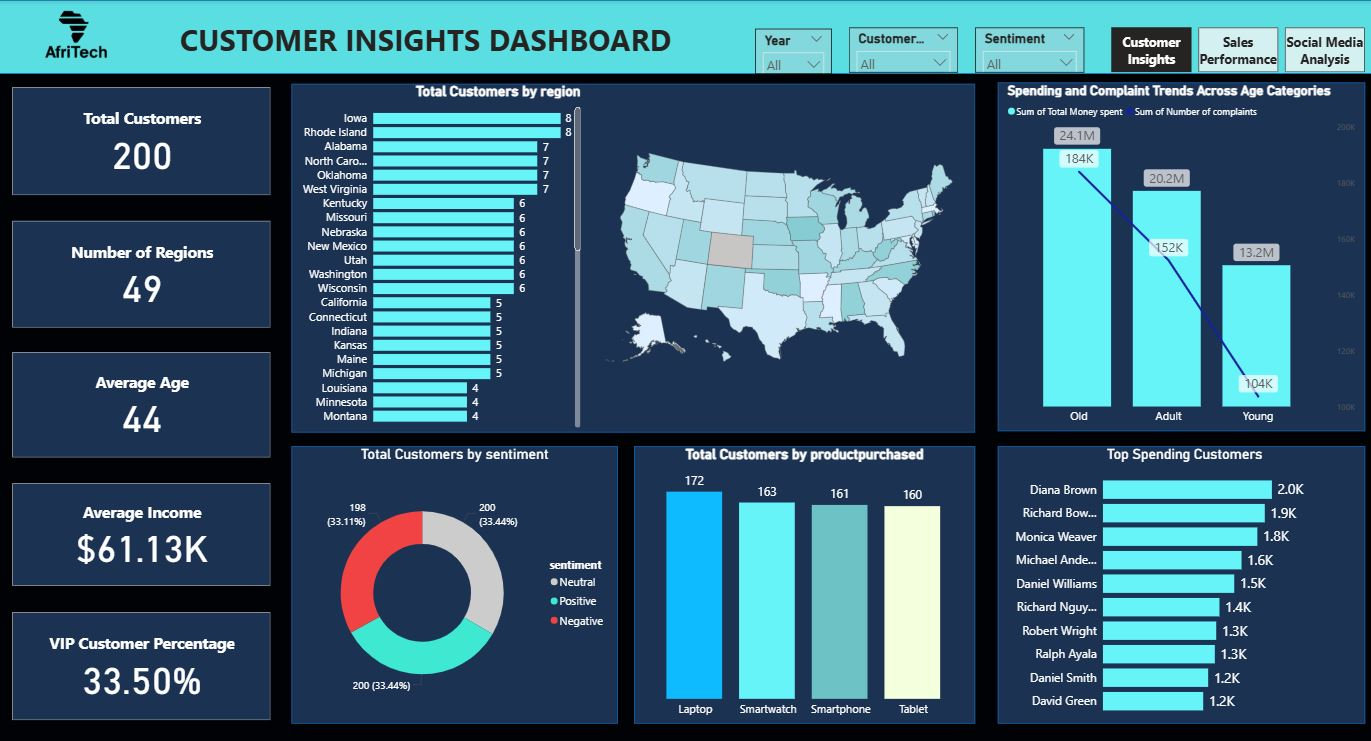

This screenshot's page, from the dashboard's own definition file:
{"tool":"powerbi","page":{"name":"Customer Insights","canvas":[2000,1080],"ordinal":0},"visuals":[{"type":"shape","box":[0,0,2000.4,107.2],"z":0},{"type":"shape","box":[923,648.6,496,403.3],"z":1000},{"type":"shape","box":[425.1,648.6,474.2,403.3],"z":2000},{"type":"shape","box":[1451.7,648.6,534.2,403.3],"z":3000},{"type":"shape","box":[1451.7,119.9,534.2,506.9],"z":4000},{"type":"shape","box":[425.1,121.7,993.8,506.9],"z":5000},{"type":"image","box":[0,0,221.7,105.4],"z":6000},{"type":"clusteredBarChart","fields":{"Y":["New Measures.Total Customers"],"Category":["public customerdata.region"]},"box":[425.1,119.9,425.1,506.9],"z":7000},{"type":"donutChart","fields":{"Y":["New Measures.Total Customers"],"Category":["public socialmedia.sentiment"]},"box":[425.1,648.6,474.2,403.3],"z":8000},{"type":"shapeMap","fields":{"Value":["New Measures.Total Customers"],"Category":["public customerdata.region"]},"box":[850.3,121.7,568.7,505.1],"z":9000},{"type":"clusteredColumnChart","fields":{"Category":["public transactiondata.productpurchased"],"Y":["New Measures.Total Customers"]},"box":[923,648.6,496,403.3],"z":10000},{"type":"lineClusteredColumnComboChart","title":"Spending and Complaint Trends Across Age Categories","fields":{"Category":["Query1.age_category"],"Y":["Sum(Query1.Total Money spent)"],"Y2":["Sum(Query1.Number of complaints)"]},"box":[1460.8,119.9,525.1,506.9],"z":11000},{"type":"clusteredBarChart","title":"Top Spending Customers","fields":{"Category":["public customerdata.customername"],"Y":["Avg(public transactiondata.purchaseamount)"]},"box":[1460.8,648.6,525.1,403.3],"z":12000},{"type":"cardVisual","fields":{"Data":["New Measures.Total Customers"]},"box":[14.5,121.7,385.2,167.2],"z":13000},{"type":"cardVisual","fields":{"Data":["New Measures.Region Count"]},"box":[14.5,315.7,385.2,165.3],"z":14000},{"type":"cardVisual","fields":{"Data":["New Measures.Average Income"]},"box":[14.5,698.1,385.2,159.9],"z":15000},{"type":"cardVisual","fields":{"Data":["New Measures.Average Age"]},"box":[14.5,507.8,385.2,163.5],"z":16000},{"type":"cardVisual","fields":{"Data":["New Measures.VIP Customer Percentage"]},"box":[14.5,884.8,385.2,167.2],"z":17000},{"type":"textbox","box":[258,23.6,724.9,70.9],"z":18000},{"type":"pageNavigator","box":[1617,40,368.8,65.4],"z":19000},{"type":"slicer","fields":{"Values":["public socialmedia.sentiment"]},"box":[1419,40,158.1,65.4],"z":20000},{"type":"slicer","fields":{"Values":["public customerdata.customertype"]},"box":[1235.5,40,158.1,65.4],"z":21000},{"type":"slicer","fields":{"Values":["public transactiondata.transactiondate.Variation.Date Hierarchy.Year"]},"box":[1099.2,41.8,110.8,65.4],"z":22000}]}

Visuals, with their boxes in screenshot pixels (x1, y1, x2, y2), scaled from the page's 2000x1080 canvas onto the 1371x741 screenshot:
shape: 0 0 1370 74
shape: 633 445 973 722
shape: 291 445 616 722
shape: 995 445 1361 722
shape: 995 82 1361 430
shape: 291 83 973 431
image: 0 0 152 72
clusteredBarChart - New Measures.Total Customers x public customerdata.region: 291 82 583 430
donutChart - New Measures.Total Customers x public socialmedia.sentiment: 291 445 616 722
shapeMap - New Measures.Total Customers x public customerdata.region: 583 83 973 430
clusteredColumnChart - public transactiondata.productpurchased x New Measures.Total Customers: 633 445 973 722
"Spending and Complaint Trends Across Age Categories" lineClusteredColumnComboChart: 1001 82 1361 430
"Top Spending Customers" clusteredBarChart: 1001 445 1361 722
cardVisual - New Measures.Total Customers: 10 83 274 198
cardVisual - New Measures.Region Count: 10 217 274 330
cardVisual - New Measures.Average Income: 10 479 274 589
cardVisual - New Measures.Average Age: 10 348 274 461
cardVisual - New Measures.VIP Customer Percentage: 10 607 274 722
textbox: 177 16 674 65
pageNavigator: 1108 27 1361 72
slicer - public socialmedia.sentiment: 973 27 1081 72
slicer - public customerdata.customertype: 847 27 955 72
slicer - public transactiondata.transactiondate.Variation.Date Hierarchy.Year: 754 29 829 74
